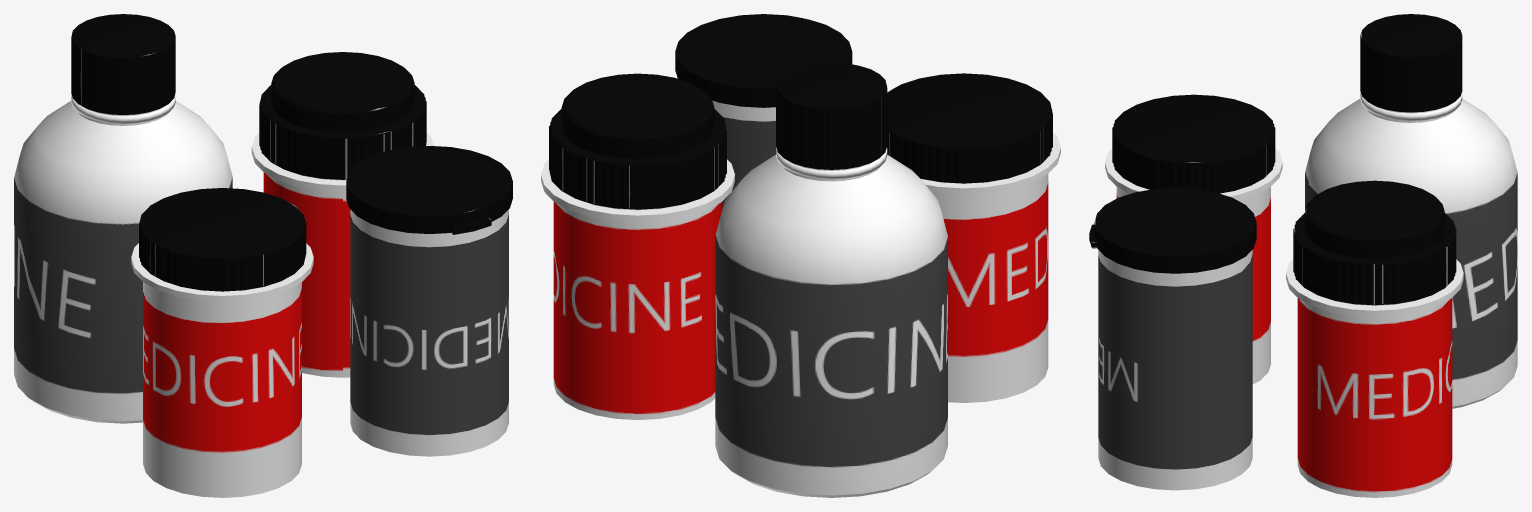
The model's file is 11_oshud.fbx.
3 renders of one model, left to right at view 1: azimuth 30°, elevation 25°; view 2: azimuth 150°, elevation 25°; view 3: azimuth 270°, elevation 25°, orthographic. The views are drawn at different scales.
Visible parts, largest first — view 1: _c_17_madicin_botol; view 2: _c_17_madicin_botol; view 3: _c_17_madicin_botol.
Boxes of the visible parts, x1,y1,x2,y2 form: _c_17_madicin_botol: [14, 14, 512, 497]; _c_17_madicin_botol: [541, 14, 1060, 497]; _c_17_madicin_botol: [1089, 14, 1517, 497].
Size of the model in its own units: 2.32 by 2.04 by 2.36.
1 material, 1 textured.
